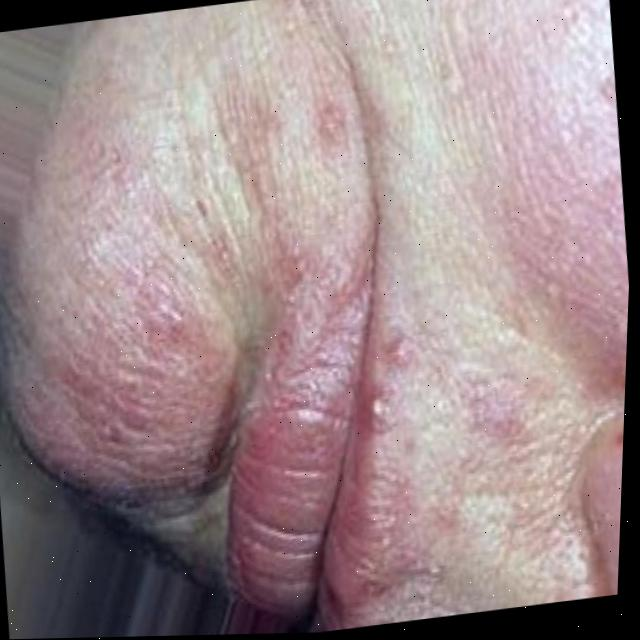Rosacea: (7, 224, 274, 497), (440, 362, 532, 440)
